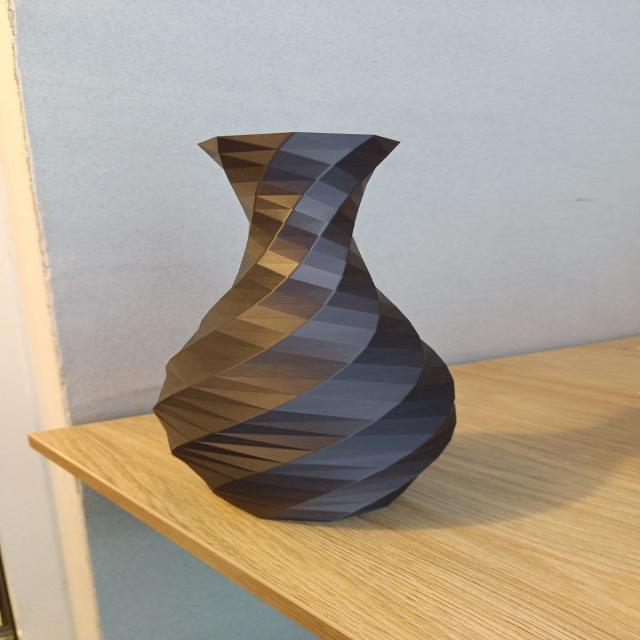Without deffect: (138, 103, 480, 536)
